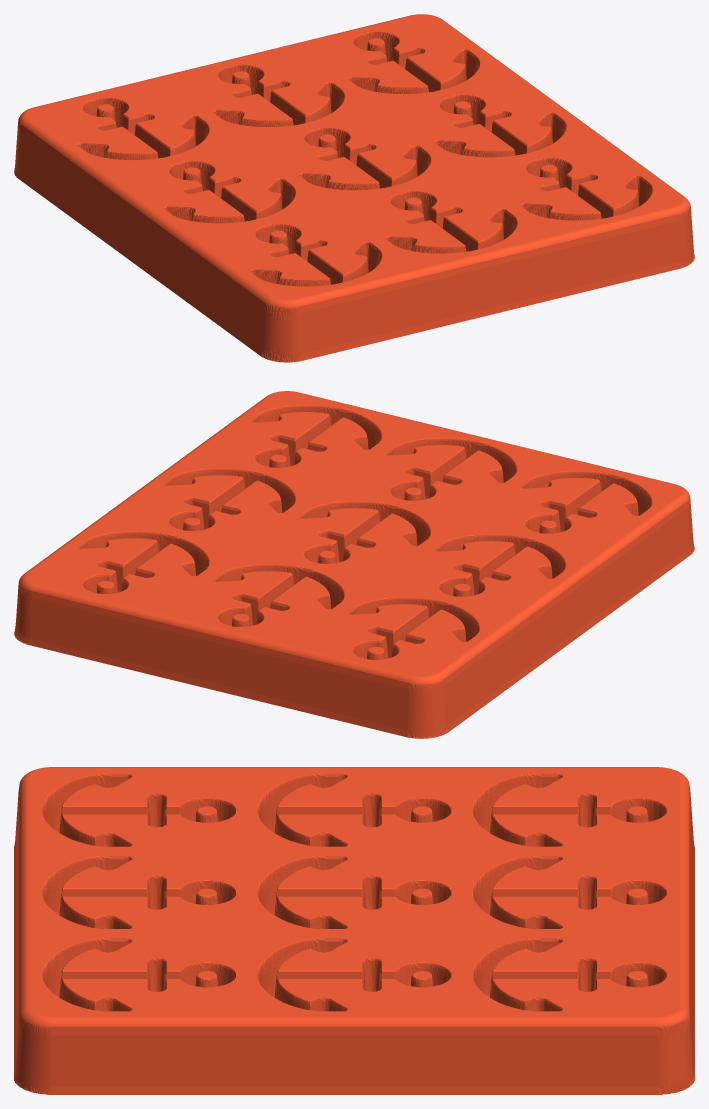
File: mold.glb
3 renders of one model, top to bottom at view 1: azimuth 30°, elevation 25°; view 2: azimuth 150°, elevation 25°; view 3: azimuth 270°, elevation 25°, orthographic. The views are drawn at different scales.
Visible parts, largest first — view 1: geometry_0; view 2: geometry_0; view 3: geometry_0.
Boxes of the visible parts, x1,y1,x2,y2 form: geometry_0: (14,14,694,362); geometry_0: (14,391,694,738); geometry_0: (14,767,694,1094).
Size of the model in its own units: 0.1451 by 0.0185 by 0.1595.
